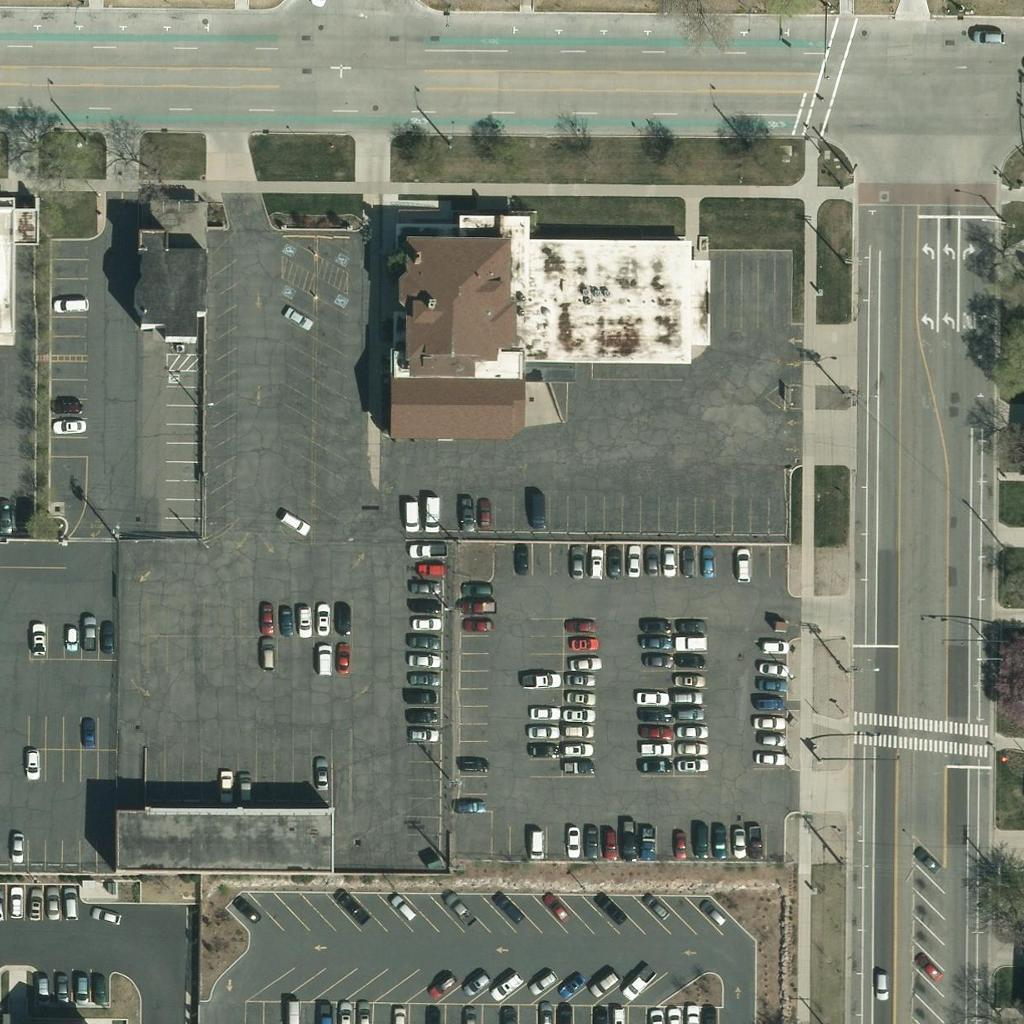car: (971, 21, 1005, 55), (54, 287, 88, 321), (281, 299, 315, 333), (53, 388, 87, 422), (54, 408, 88, 442), (520, 492, 554, 526), (6, 498, 40, 532), (394, 498, 428, 532), (414, 498, 448, 532), (466, 498, 500, 532), (450, 499, 484, 533), (277, 506, 311, 540), (408, 532, 442, 566), (503, 541, 537, 575), (651, 542, 685, 576), (616, 544, 650, 578), (634, 545, 668, 579), (578, 546, 612, 580), (596, 546, 630, 580), (690, 546, 724, 580), (559, 547, 593, 581), (671, 547, 705, 581), (725, 549, 759, 583), (416, 552, 450, 586), (408, 569, 442, 603), (462, 571, 496, 605), (408, 586, 442, 620), (461, 589, 495, 623), (248, 598, 282, 632), (326, 601, 360, 635), (288, 602, 322, 636), (267, 603, 301, 637), (305, 604, 339, 638), (407, 606, 441, 640), (461, 606, 495, 640), (636, 606, 670, 640), (673, 607, 707, 641), (565, 608, 599, 642), (73, 613, 107, 647), (54, 620, 88, 654), (20, 621, 54, 655), (89, 621, 123, 655), (403, 623, 437, 657), (636, 623, 670, 657), (566, 624, 600, 658), (677, 625, 711, 659), (757, 628, 791, 662), (250, 637, 284, 671), (308, 640, 342, 674), (673, 640, 707, 674), (640, 641, 674, 675), (404, 643, 438, 677), (567, 646, 601, 680), (756, 651, 790, 685), (405, 659, 439, 693), (560, 660, 594, 694), (526, 663, 560, 697), (669, 663, 703, 697), (752, 666, 786, 700), (401, 677, 435, 711), (671, 678, 705, 712), (561, 679, 595, 713), (634, 681, 668, 715), (753, 686, 787, 720), (527, 696, 561, 730), (560, 696, 594, 730), (670, 696, 704, 730), (637, 697, 671, 731), (404, 699, 438, 733), (751, 705, 785, 739), (561, 712, 595, 746), (525, 713, 559, 747), (640, 713, 674, 747), (673, 714, 707, 748), (403, 716, 437, 750), (72, 717, 106, 751), (753, 722, 787, 756), (560, 731, 594, 765), (638, 731, 672, 765), (675, 731, 709, 765), (525, 733, 559, 767), (753, 741, 787, 775), (13, 744, 47, 778), (674, 746, 708, 780), (636, 747, 670, 781), (455, 748, 489, 782), (560, 748, 594, 782), (306, 758, 340, 792), (208, 767, 242, 801), (228, 771, 262, 805), (450, 789, 484, 823), (702, 820, 736, 854), (574, 821, 608, 855), (610, 823, 644, 857), (556, 824, 590, 858), (592, 824, 626, 858), (630, 824, 664, 858), (684, 824, 718, 858), (722, 824, 756, 858), (518, 825, 552, 859), (662, 825, 696, 859), (739, 826, 773, 860), (0, 829, 34, 863), (910, 844, 944, 878), (34, 886, 68, 920), (52, 886, 86, 920), (332, 886, 366, 920), (17, 888, 51, 922), (641, 888, 675, 922), (593, 889, 627, 923), (228, 890, 262, 924), (442, 890, 476, 924), (492, 890, 526, 924), (539, 890, 573, 924), (386, 891, 420, 925), (695, 895, 729, 929), (91, 899, 125, 933), (913, 951, 947, 985), (459, 964, 493, 998), (526, 964, 560, 998), (587, 966, 621, 1000), (863, 966, 897, 1000), (554, 967, 588, 1001), (619, 967, 653, 1001), (423, 968, 457, 1002), (490, 968, 524, 1002), (82, 970, 116, 1004), (63, 971, 97, 1005), (43, 972, 77, 1006), (26, 974, 60, 1008), (0, 885, 32, 919), (326, 1000, 360, 1024), (547, 1000, 581, 1024), (675, 1000, 709, 1024), (347, 1001, 381, 1024), (528, 1001, 562, 1024), (692, 1001, 726, 1024), (601, 1003, 635, 1024), (0, 496, 20, 530), (582, 1004, 616, 1024), (276, 1005, 310, 1024), (382, 1005, 416, 1024), (452, 1005, 486, 1024), (492, 1005, 526, 1024)
